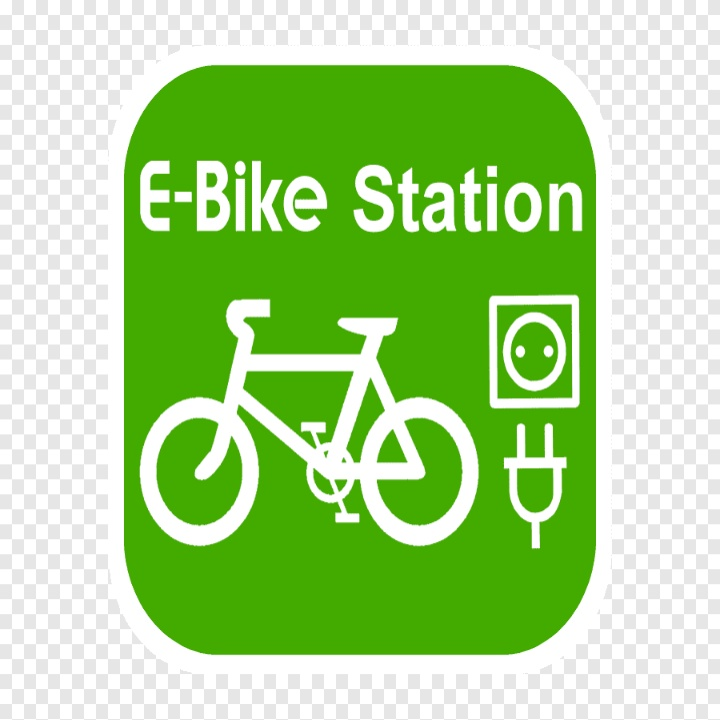bicycle: (139, 301, 479, 547)
